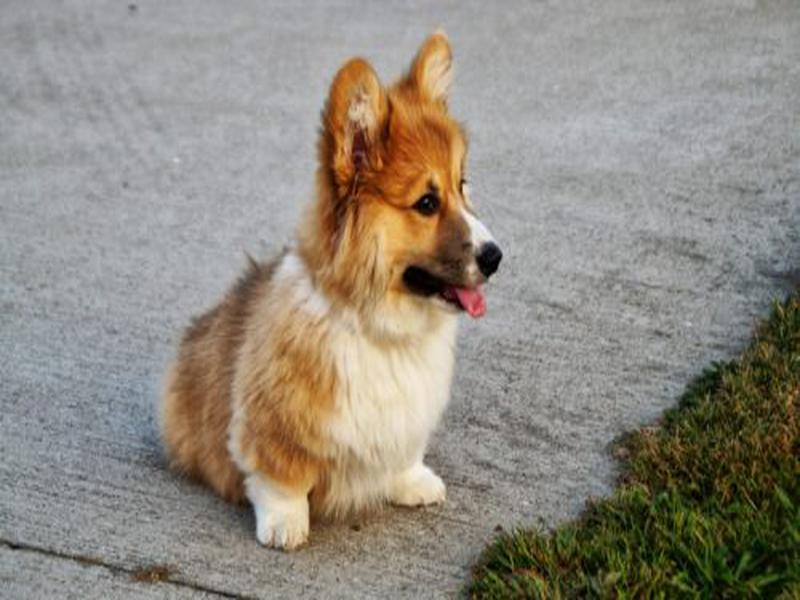corgi: (319, 29, 505, 325)
